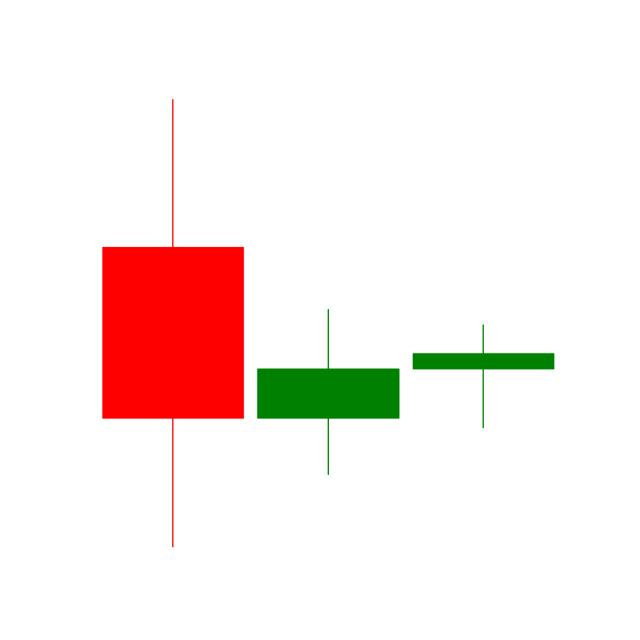spinning top: (90, 83, 252, 572), (254, 308, 402, 478)
